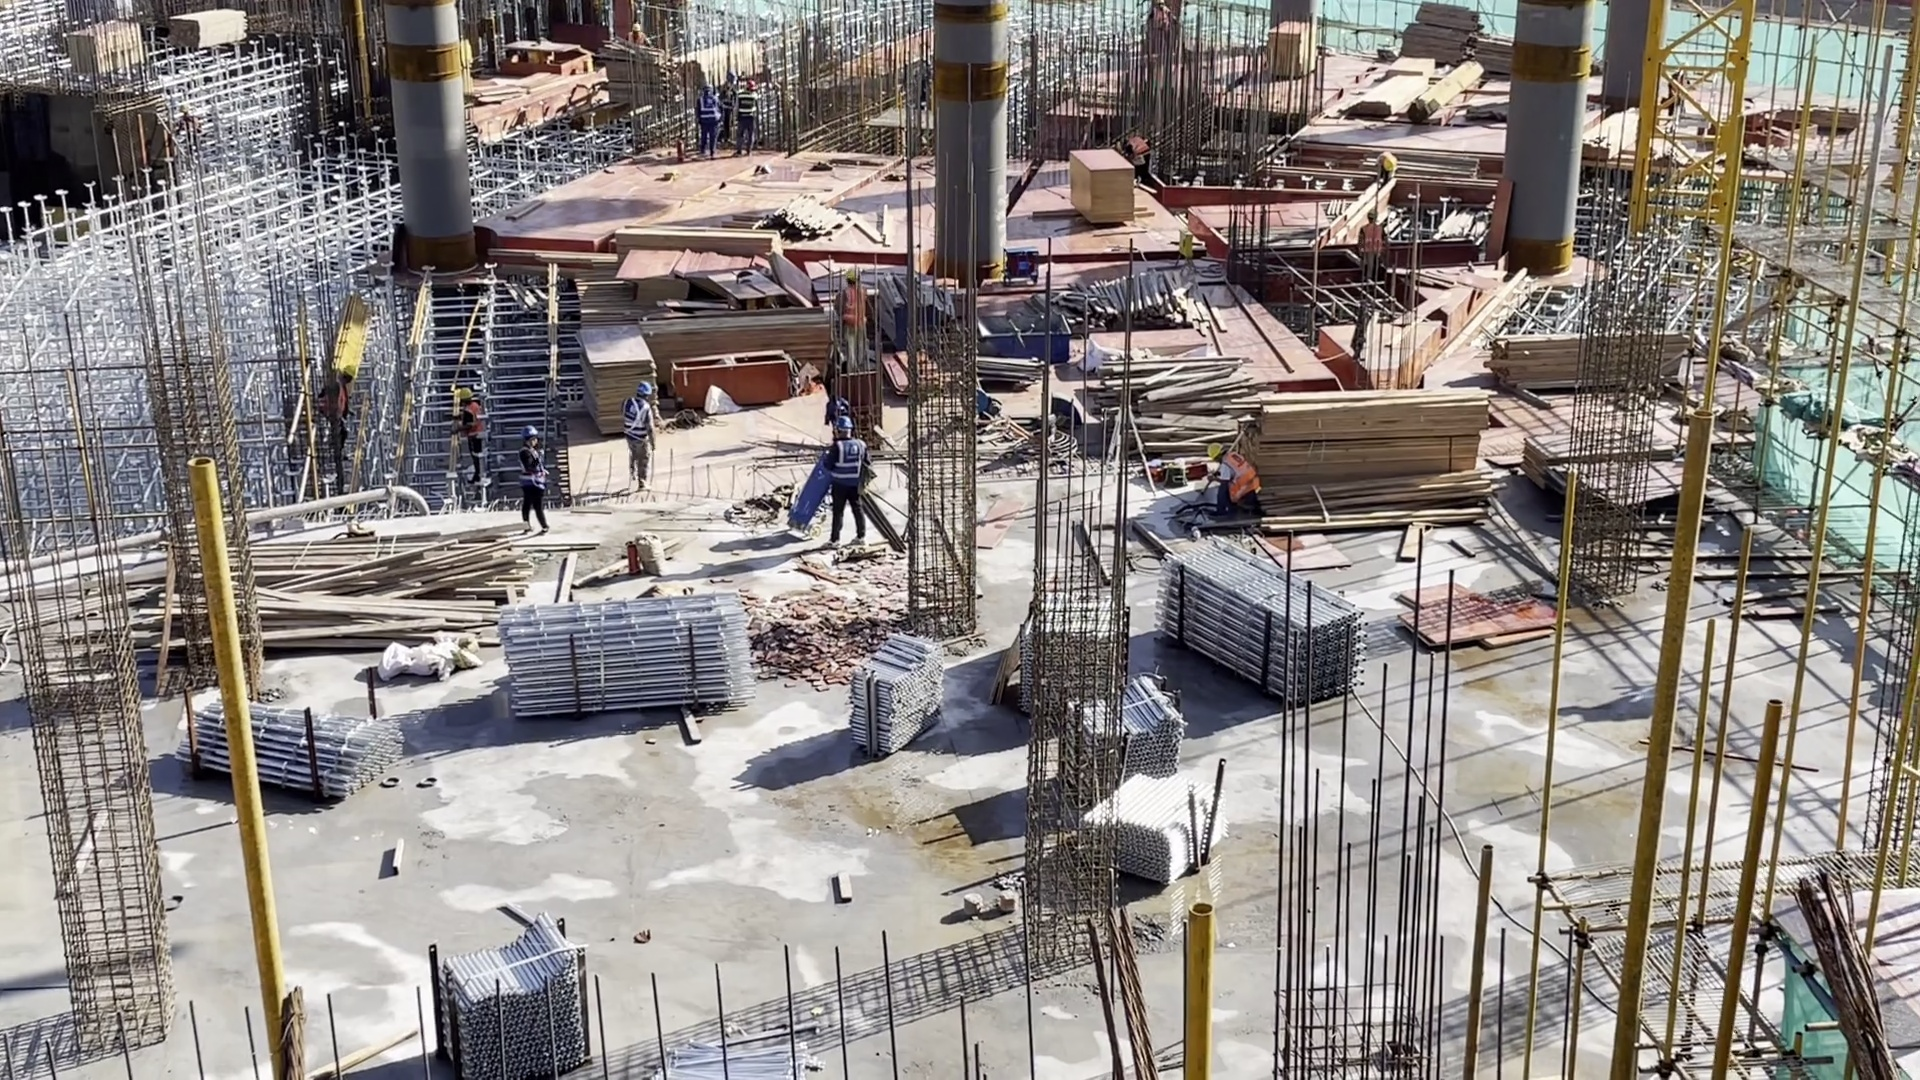board: (1526, 429, 1683, 504), (1395, 584, 1549, 658), (583, 322, 663, 431), (1067, 150, 1140, 235), (1256, 16, 1320, 86)
helmet: (833, 414, 857, 439), (520, 423, 537, 446), (633, 380, 652, 399), (1209, 438, 1224, 463), (1364, 204, 1379, 223), (457, 386, 474, 404), (701, 80, 717, 98), (1381, 152, 1397, 169), (744, 79, 759, 93), (344, 363, 358, 380), (1114, 137, 1127, 154)
person: (823, 413, 870, 549), (449, 379, 496, 484), (1203, 438, 1265, 515), (621, 377, 659, 492), (323, 360, 367, 456), (835, 266, 874, 369), (518, 415, 549, 534), (727, 75, 762, 167), (1362, 202, 1399, 283), (693, 78, 723, 171), (1114, 121, 1158, 183), (1372, 148, 1397, 188)
vest: (1218, 452, 1263, 504), (830, 436, 864, 490), (522, 442, 552, 496), (460, 402, 488, 457), (625, 402, 656, 447), (842, 283, 872, 323), (732, 89, 755, 120), (1361, 225, 1385, 256), (1126, 132, 1153, 156), (698, 93, 717, 121)
wood: (1262, 384, 1511, 537), (1151, 537, 1366, 703), (248, 517, 523, 642), (498, 595, 756, 716), (425, 927, 601, 1071), (183, 695, 409, 794), (1075, 769, 1261, 876), (847, 620, 947, 780), (1473, 321, 1683, 394), (1065, 674, 1187, 794), (643, 313, 850, 369), (602, 217, 779, 255), (172, 9, 254, 57)
